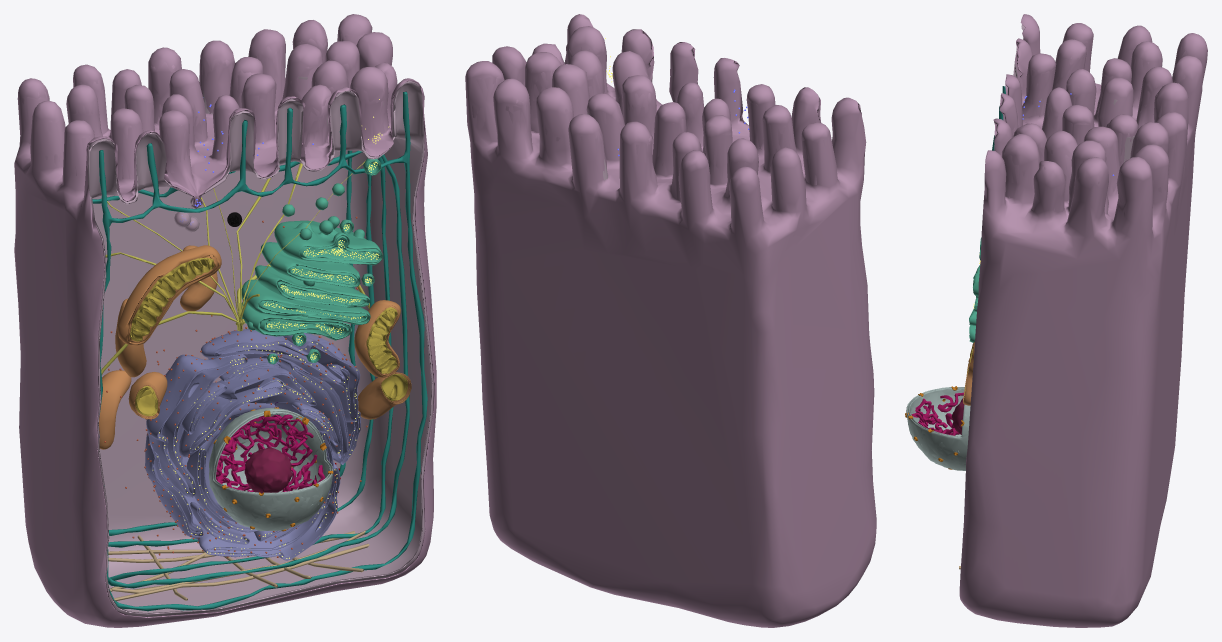
Rendered from human_eukaryotic_cell_and_its_main_components.glb.
3 views of the same model, side by side, from view 1: azimuth 30°, elevation 25°; view 2: azimuth 150°, elevation 25°; view 3: azimuth 270°, elevation 25° (orthographic). The views are drawn at different scales.
Parts seen in each view (by area): view 1: Cell_membrane2, Rer, Microfilaments2, Golgi, Mitochondria_external_membranes_Mitochondria_external_membra, Nucleus_membrane, Mitochondria_inside, Heterochromatin, Microfilaments, Centrioles, Proteins, Nucleolus (+1 smaller); view 2: Cell_membrane2; view 3: Cell_membrane2, Nucleus_membrane, Heterochromatin, Golgi.
Boxes of the visible parts, x1,y1,x2,y2 form: Cell_membrane2: [14, 14, 436, 627]; Rer: [145, 329, 360, 560]; Microfilaments2: [92, 91, 427, 611]; Golgi: [241, 158, 382, 364]; Mitochondria_external_membranes_Mitochondria_external_membra: [99, 245, 411, 449]; Nucleus_membrane: [209, 408, 333, 530]; Mitochondria_inside: [129, 257, 407, 416]; Heterochromatin: [216, 414, 325, 491]; Microfilaments: [108, 530, 369, 601]; Centrioles: [101, 160, 369, 374]; Proteins: [152, 99, 389, 558]; Nucleolus: [244, 447, 292, 493]; Cell_membrane2: [465, 14, 876, 627]; Cell_membrane2: [959, 14, 1207, 627]; Nucleus_membrane: [906, 387, 970, 470]; Heterochromatin: [911, 392, 963, 435]; Golgi: [969, 237, 981, 342].
Size of the model in its own units: 6.51 by 9.06 by 5.11.
